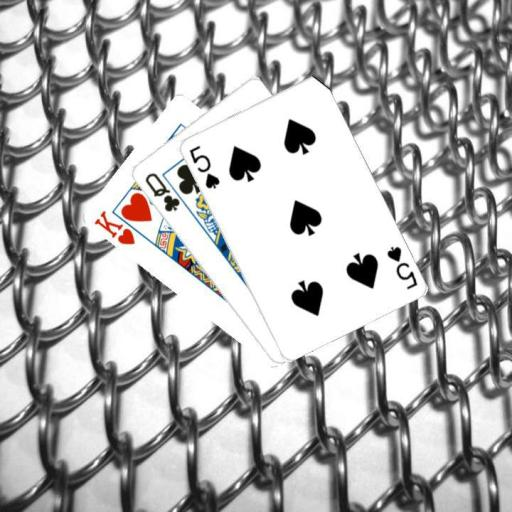5S: (186, 142, 221, 191), (383, 242, 418, 291)
KH: (91, 207, 137, 247)
QC: (141, 170, 181, 214)
